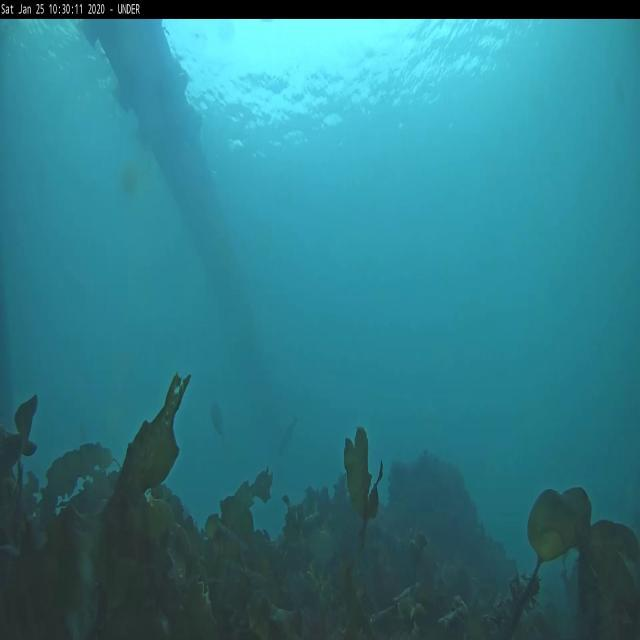fish: (274, 411, 300, 465), (208, 402, 228, 444)
